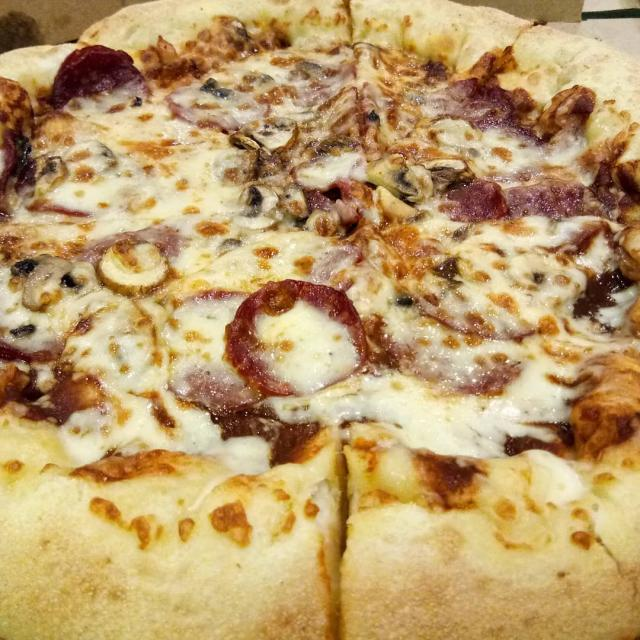mushrooms: (374, 140, 468, 200), (232, 182, 320, 232), (12, 256, 85, 315), (23, 146, 67, 213), (228, 120, 280, 162), (288, 48, 338, 90), (202, 76, 242, 101), (8, 320, 41, 341)
pepperoni: (223, 282, 382, 397), (441, 174, 587, 228), (48, 45, 147, 116), (429, 75, 519, 130)
pizza: (0, 0, 640, 640)
